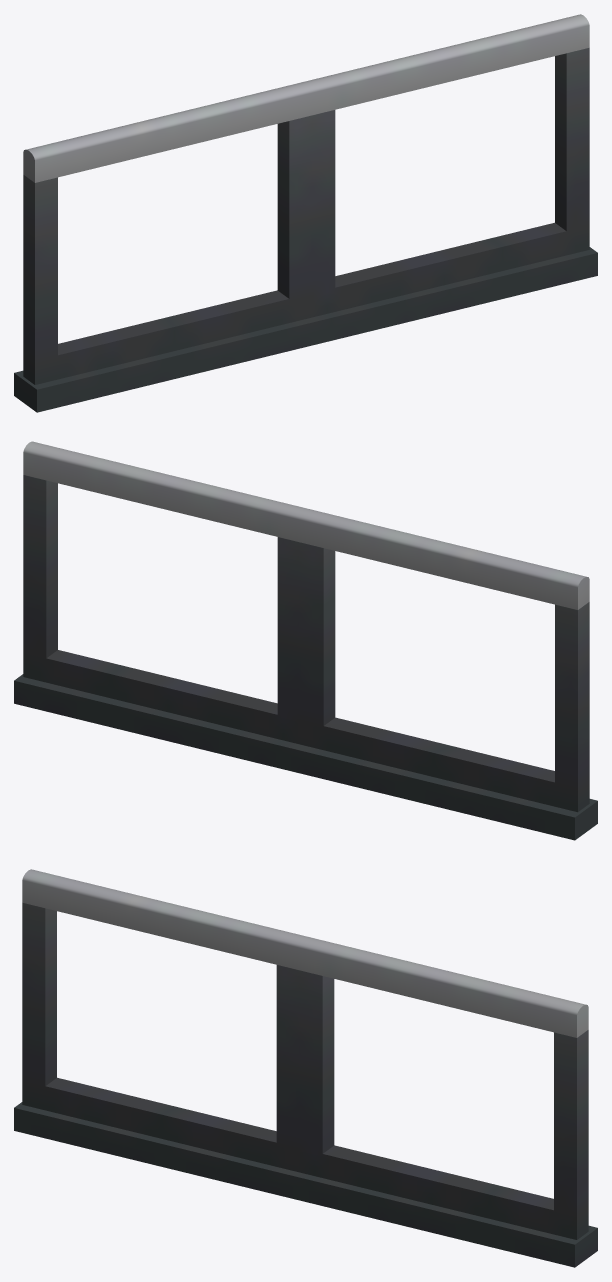
File: M_Fence_01.fbx
3 renders of one model, top to bottom at view 1: azimuth 30°, elevation 25°; view 2: azimuth 150°, elevation 25°; view 3: azimuth 330°, elevation 25°, orthographic.
Parts seen in each view (by area): view 1: M_Fence_01; view 2: M_Fence_01; view 3: M_Fence_01.
Boxes of the visible parts, x1,y1,x2,y2 form: M_Fence_01: (14, 14, 597, 412); M_Fence_01: (14, 441, 597, 840); M_Fence_01: (14, 869, 597, 1267).
Bounding box in the file's own units: 279 × 120 × 19.8.
Materials: 1 (1 with a texture image).
